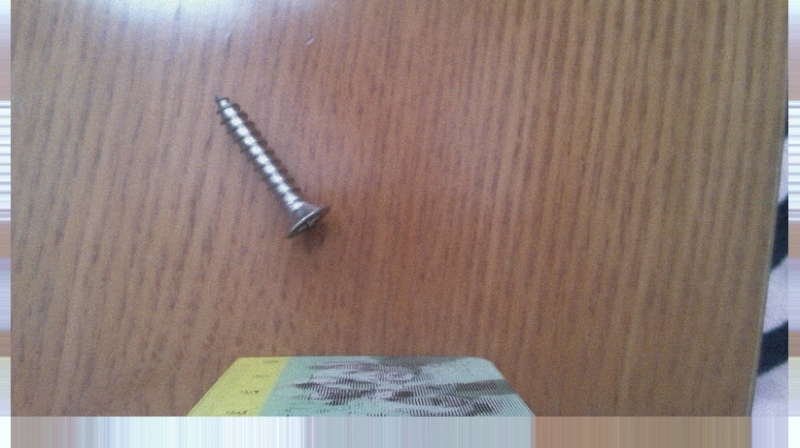S001: (211, 91, 334, 242)
